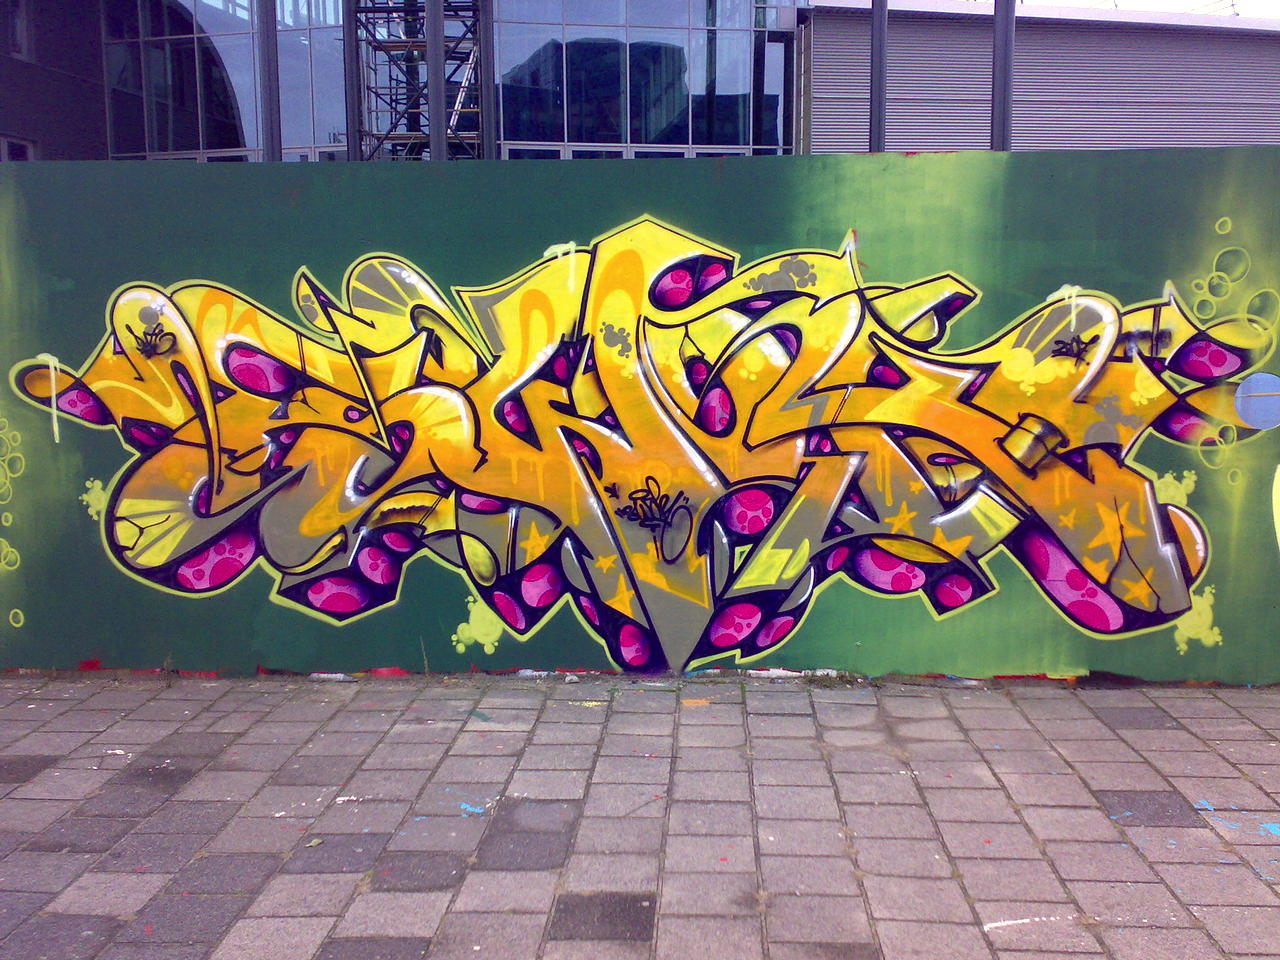graphite: (27, 164, 1280, 679)
